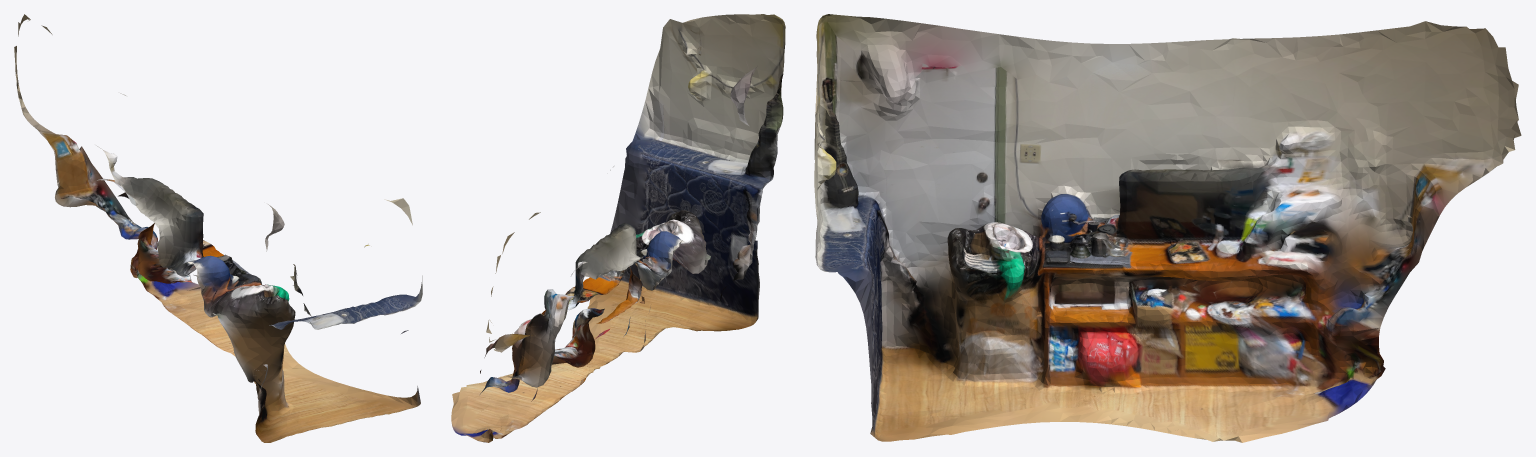
3 renders of one model, left to right at view 1: azimuth 30°, elevation 25°; view 2: azimuth 150°, elevation 25°; view 3: azimuth 270°, elevation 25°, orthographic. The views are drawn at different scales.
Bounding box in the file's own units: 1.35 × 2.21 × 4.14.
Materials: 1 (1 with a texture image).
